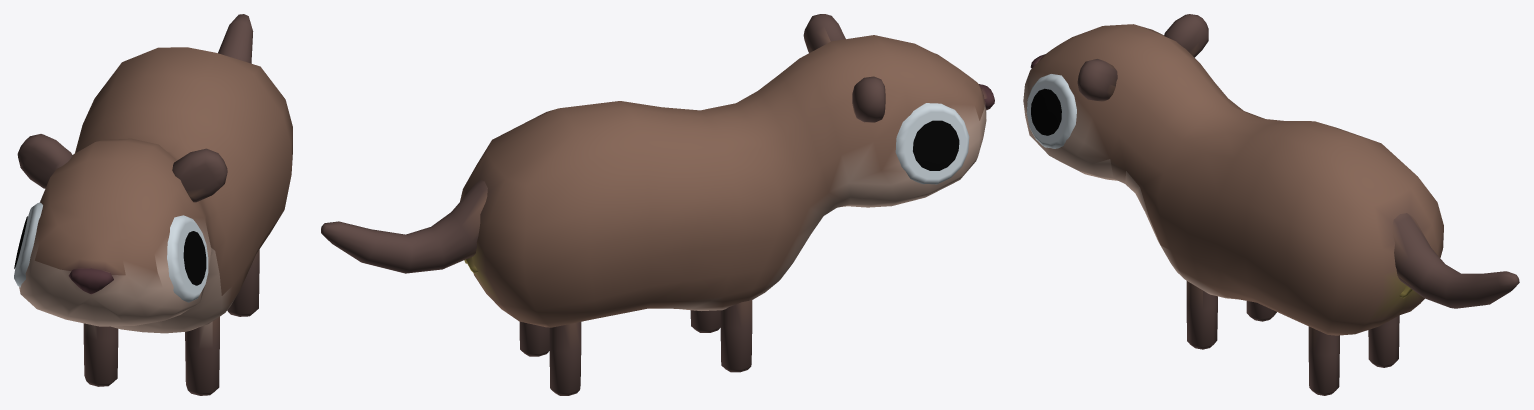
Rendered from Otter.glb.
3 views of the same model, side by side, from view 1: azimuth 30°, elevation 25°; view 2: azimuth 150°, elevation 25°; view 3: azimuth 270°, elevation 25° (orthographic). The views are drawn at different scales.
Parts seen in each view (by area): view 1: 114; view 2: 114; view 3: 114.
Part boxes in pixels (x1,y1,x2,y2): 114: (14,14,292,395); 114: (321,14,994,395); 114: (1023,14,1519,395).
Size of the model in its own units: 0.7944 by 0.5003 by 0.8663.
